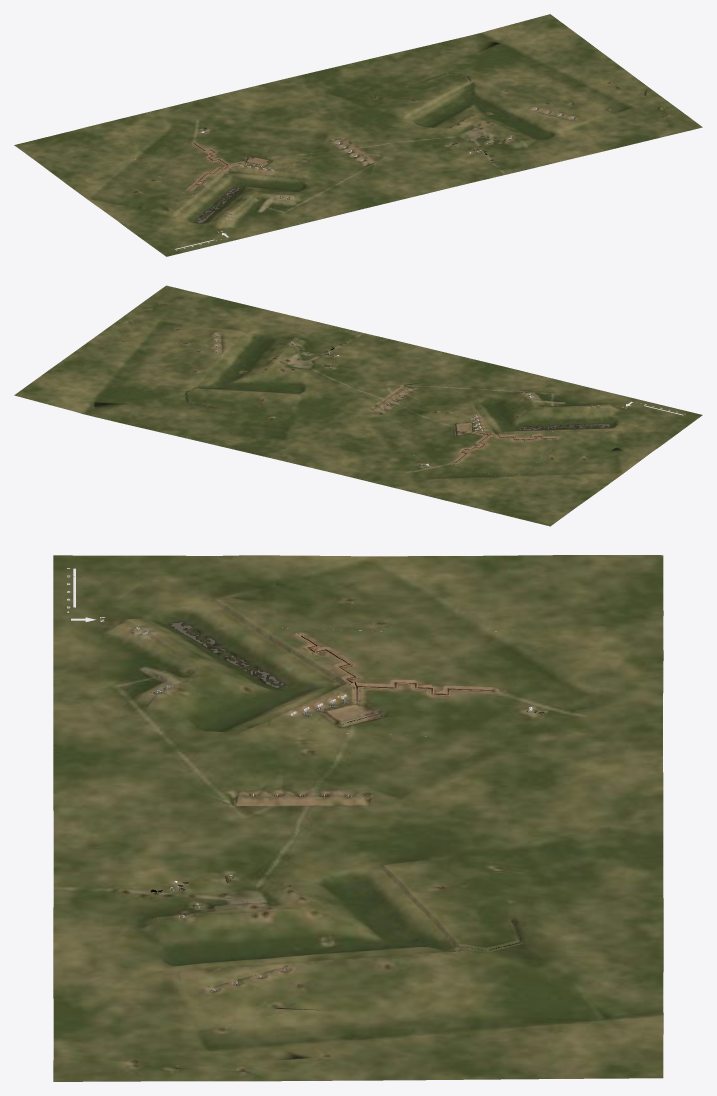
File: redutai.glb
3 renders of one model, top to bottom at view 1: azimuth 30°, elevation 25°; view 2: azimuth 150°, elevation 25°; view 3: azimuth 270°, elevation 25°, orthographic. The views are drawn at different scales.
Parts seen in each view (by area): view 1: redutai; view 2: redutai; view 3: redutai.
Part boxes in pixels (bbox=[...]): redutai: bbox=[14, 14, 702, 256]; redutai: bbox=[14, 285, 702, 526]; redutai: bbox=[53, 555, 663, 1081].
Size of the model in its own units: 680 by 10.49 by 335.
34 materials, 19 textured.
